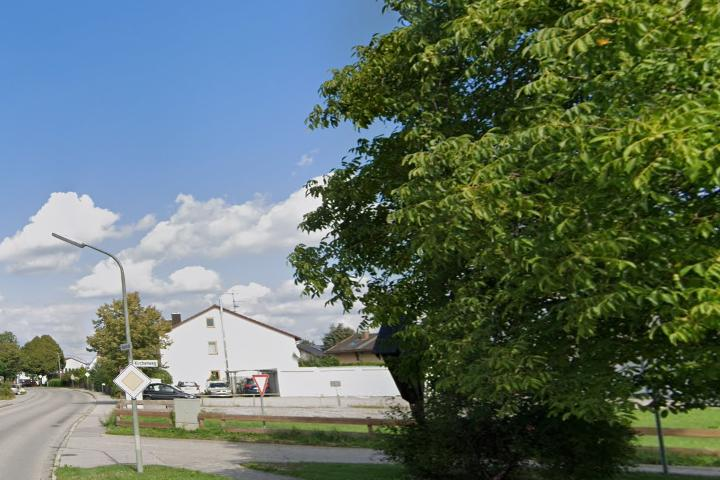traffic_sign: (113, 363, 152, 398), (252, 373, 270, 396)
vehicle: (133, 381, 200, 407), (235, 373, 272, 397), (205, 380, 232, 399)
